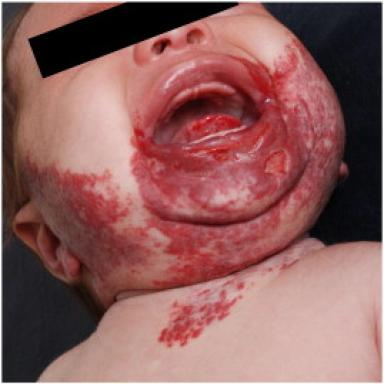Hemangiome: (23, 40, 340, 288), (159, 299, 236, 347)
